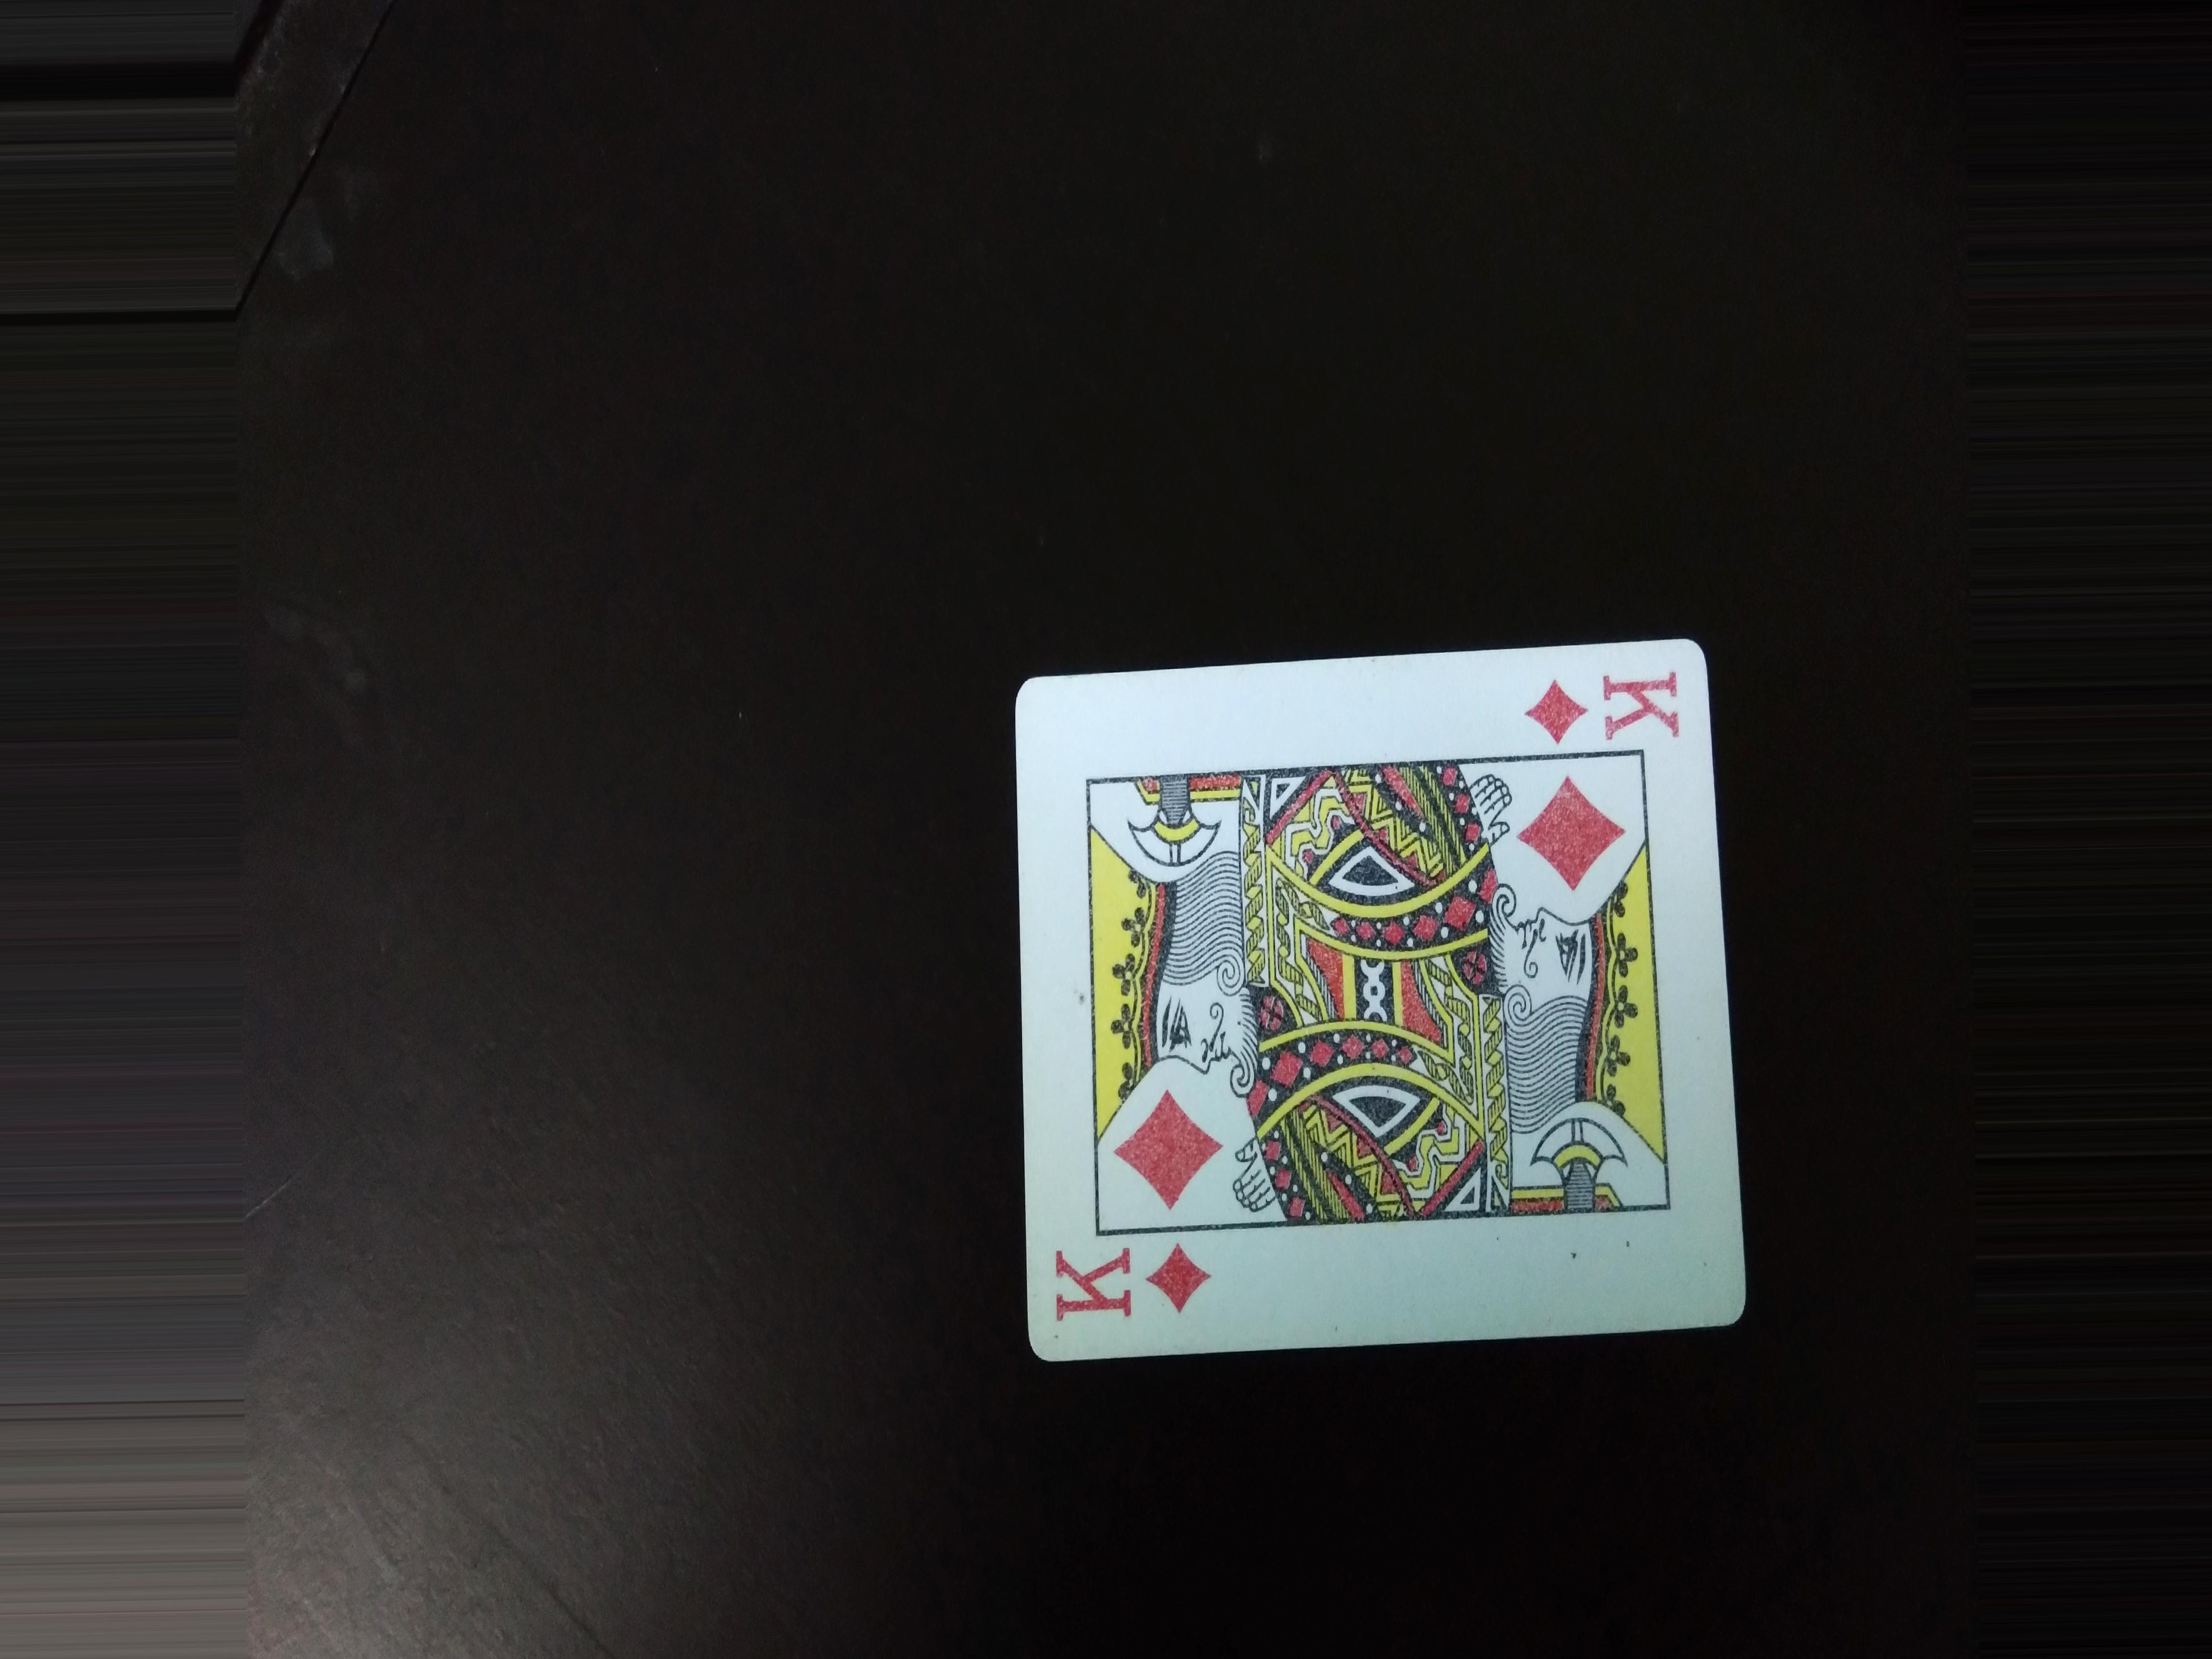KD: (1508, 650, 1698, 765)
